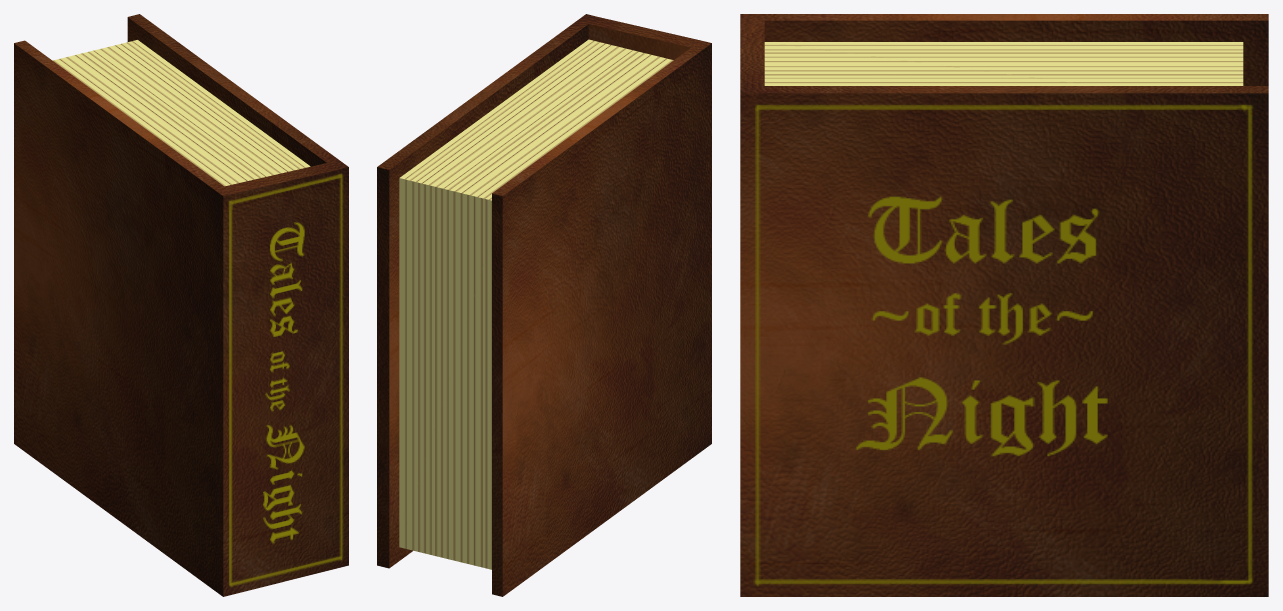
File: book.FBX
3 views of the same model, side by side, from view 1: azimuth 30°, elevation 25°; view 2: azimuth 150°, elevation 25°; view 3: azimuth 270°, elevation 25° (orthographic). The views are drawn at different scales.
Visible parts, largest first — view 1: Box001; view 2: Box001; view 3: Box001.
Part boxes in pixels (box(x1,y1,x2,y2)): Box001: box(14, 14, 348, 596); Box001: box(377, 14, 711, 596); Box001: box(740, 14, 1268, 596).
Size of the model in its own units: 16.46 by 50.12 by 47.42.
